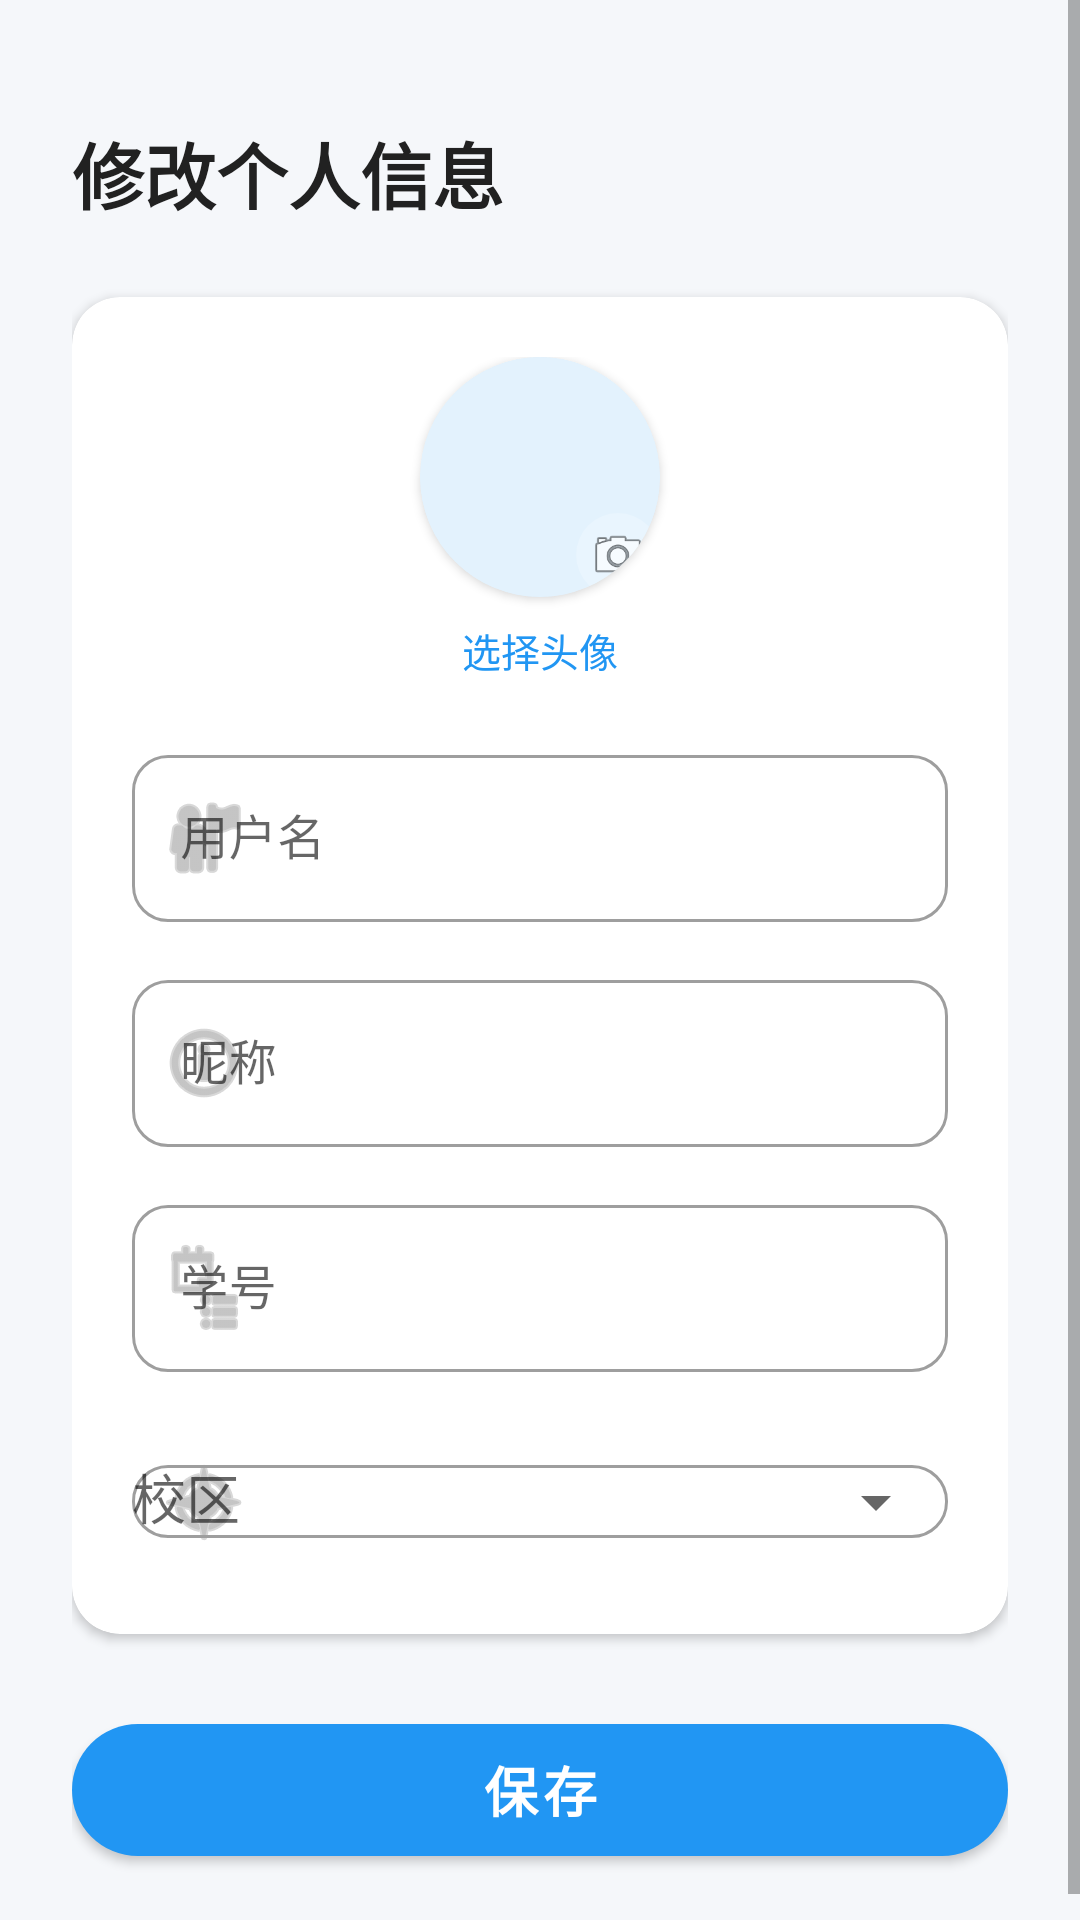

Icon click points for this 1080*1920 phone screenshot, format [x,y]:
camera: [618,555]
